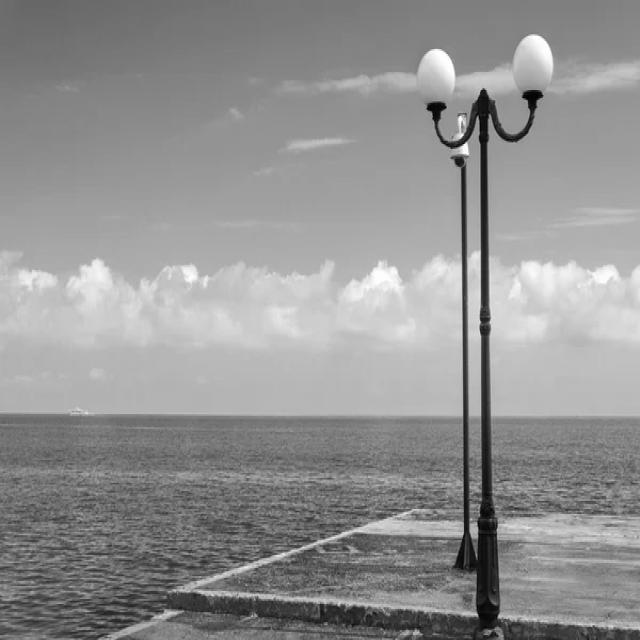Pole: (419, 34, 555, 636)
